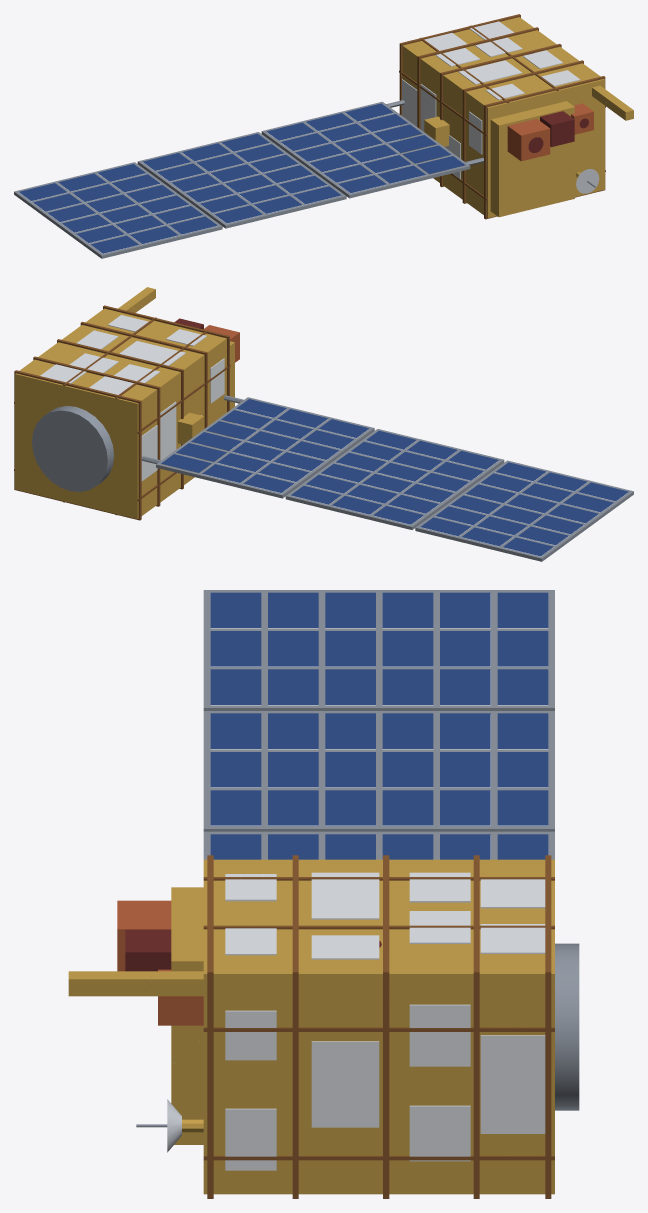
Rendered from cbers-4a.glb.
The picture shows the model from 3 angles, top to bottom: view 1: azimuth 30°, elevation 25°; view 2: azimuth 150°, elevation 25°; view 3: azimuth 270°, elevation 25°; orthographic projection. The views are drawn at different scales.
Parts seen in each view (by area): view 1: solar-panel, foil, body; view 2: solar-panel, foil, body; view 3: foil, body, solar-panel.
Boxes of the visible parts, x1,y1,x2,y2 form: solar-panel: (19,100,483,253); foil: (399,14,633,219); body: (14,21,599,258); solar-panel: (141,395,628,556); foil: (14,287,234,520); body: (32,315,633,561); foil: (68,855,554,1198); body: (117,590,579,1170); solar-panel: (210,592,548,859).
Bounding box in the file's own units: 8.63 × 1.85 × 3.78.
